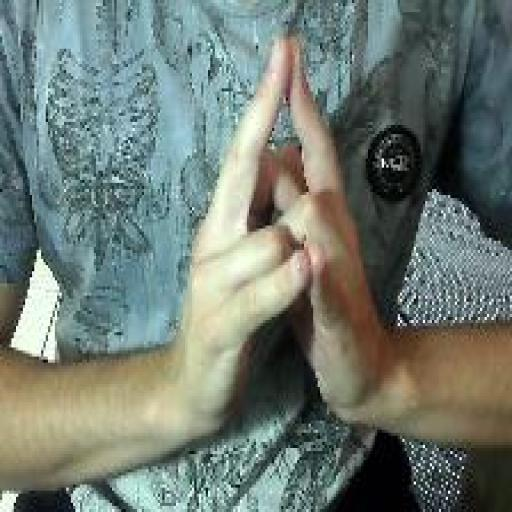Tori -bird-: (176, 32, 386, 440)
